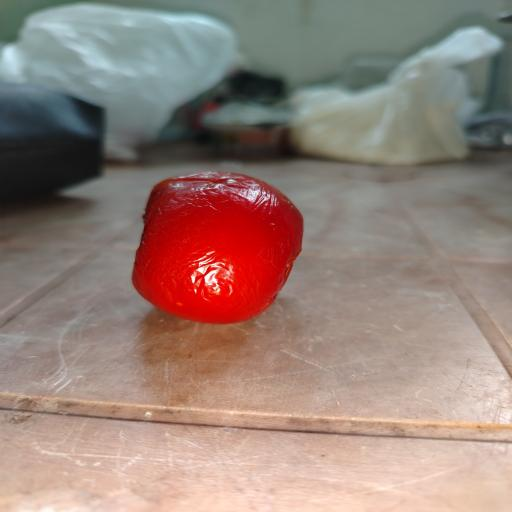spoiled: (132, 172, 303, 323)
